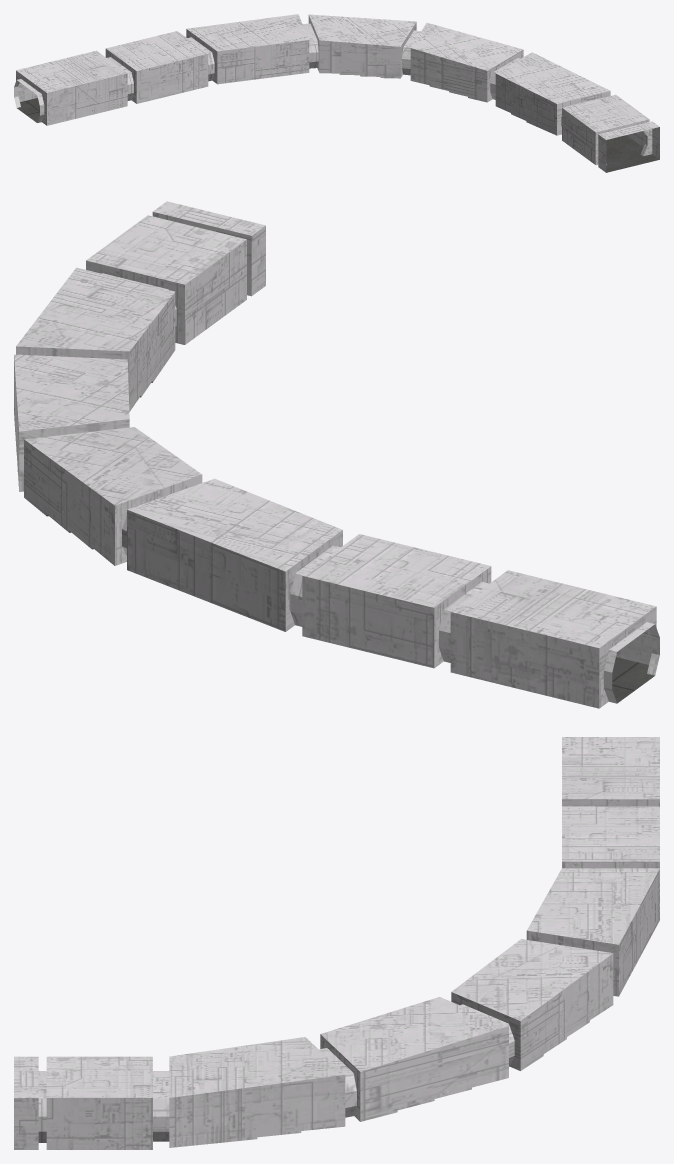
File: thm_spc_star_destroyer_s01_r27_hallway08_mesh_r27.fbx
The picture shows the model from 3 angles, top to bottom: view 1: azimuth 30°, elevation 25°; view 2: azimuth 150°, elevation 25°; view 3: azimuth 270°, elevation 25°; orthographic projection. The views are drawn at different scales.
Parts seen in each view (by area): view 1: mesh_node; view 2: mesh_node; view 3: mesh_node.
Boxes of the visible parts, x1=… form: mesh_node: x1=14, y1=14, x2=659, y2=172; mesh_node: x1=14, y1=201, x2=659, y2=708; mesh_node: x1=14, y1=737, x2=659, y2=1149.
Bounding box in the file's own units: 49.5 × 5 × 39.5.
Materials: 2 (2 with a texture image).
